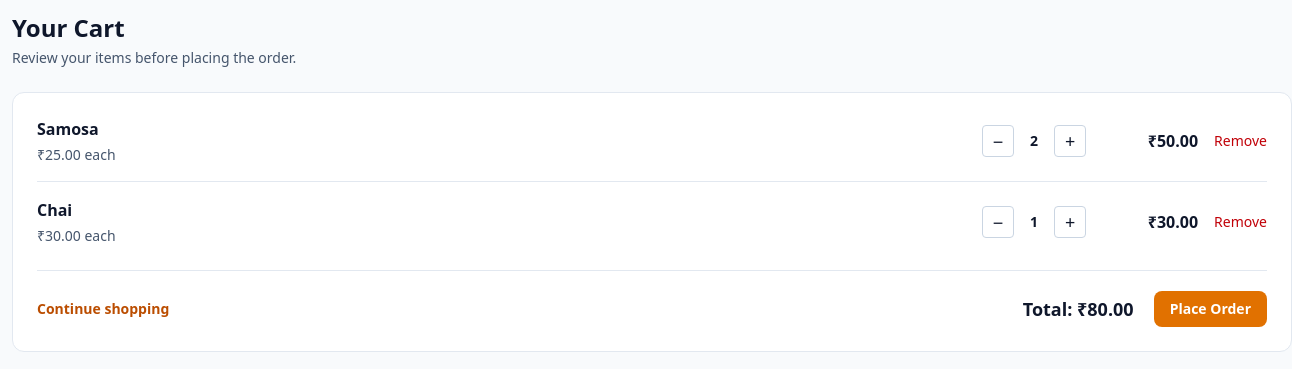
Increment 2: cart editing and checkout UI › updates line quantities, removes items, and recalculates the total
Expected: the text "Total: ₹80.00" is shown, [1023,295,1134,323]
Click the button named "Increase Samosa" at [1070, 141], box [1054,125,1086,157]
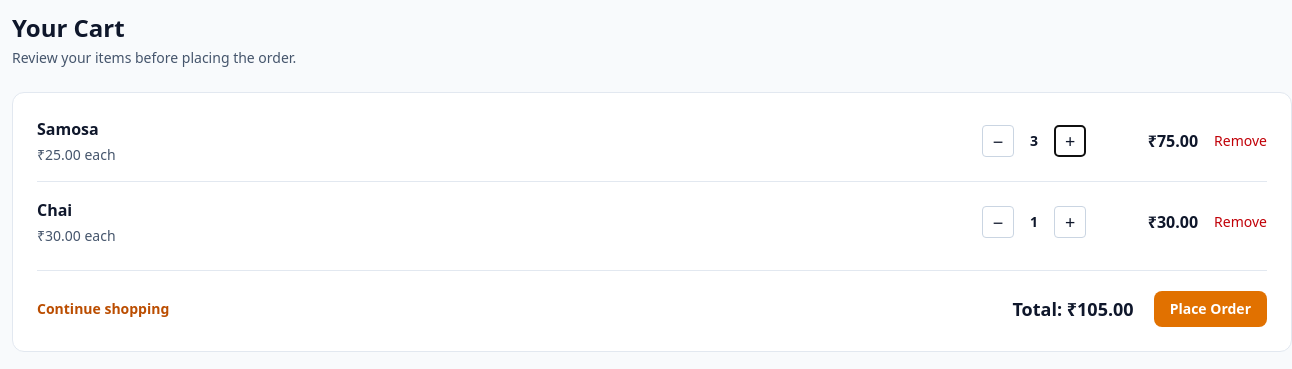
Now the text "Total: ₹105.00" is shown, box [1012,295,1134,323]
Click the button named "Decrease Samosa" at [998, 141], box [982,125,1014,157]
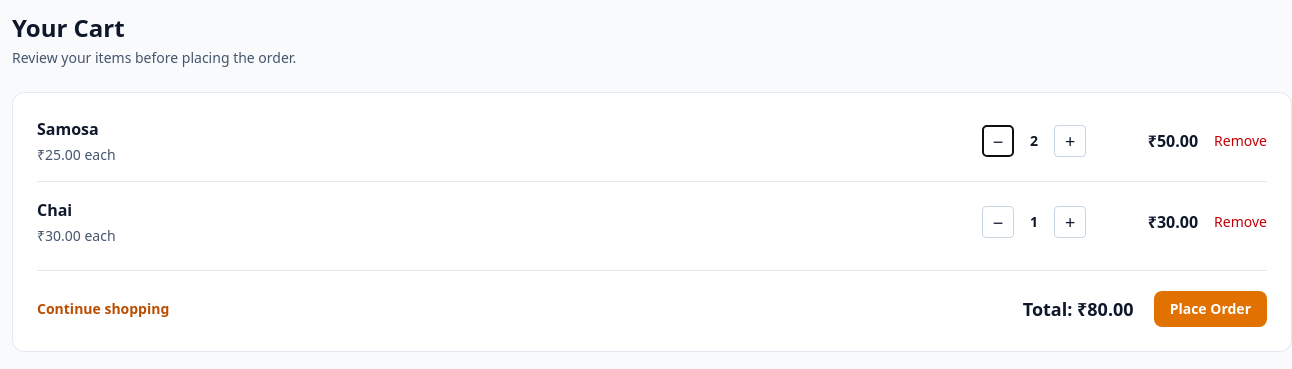
Now the text "Total: ₹80.00" is shown, box [1023,295,1134,323]
Click the button "Remove" in the row of "Chai" at [1241, 222], box [1214,212,1267,232]
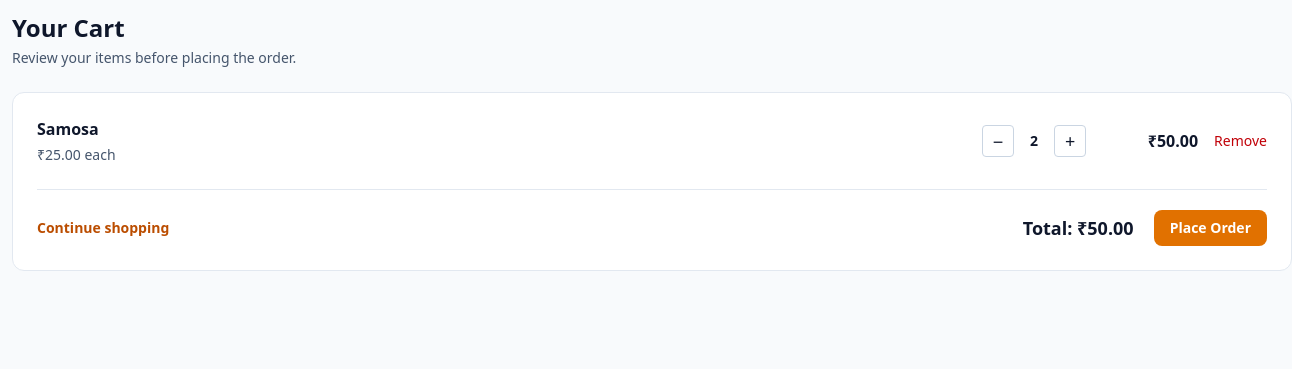
Now the text "Total: ₹50.00" is shown, box [1023,214,1134,242]
Now the heading "Chai" is gone
